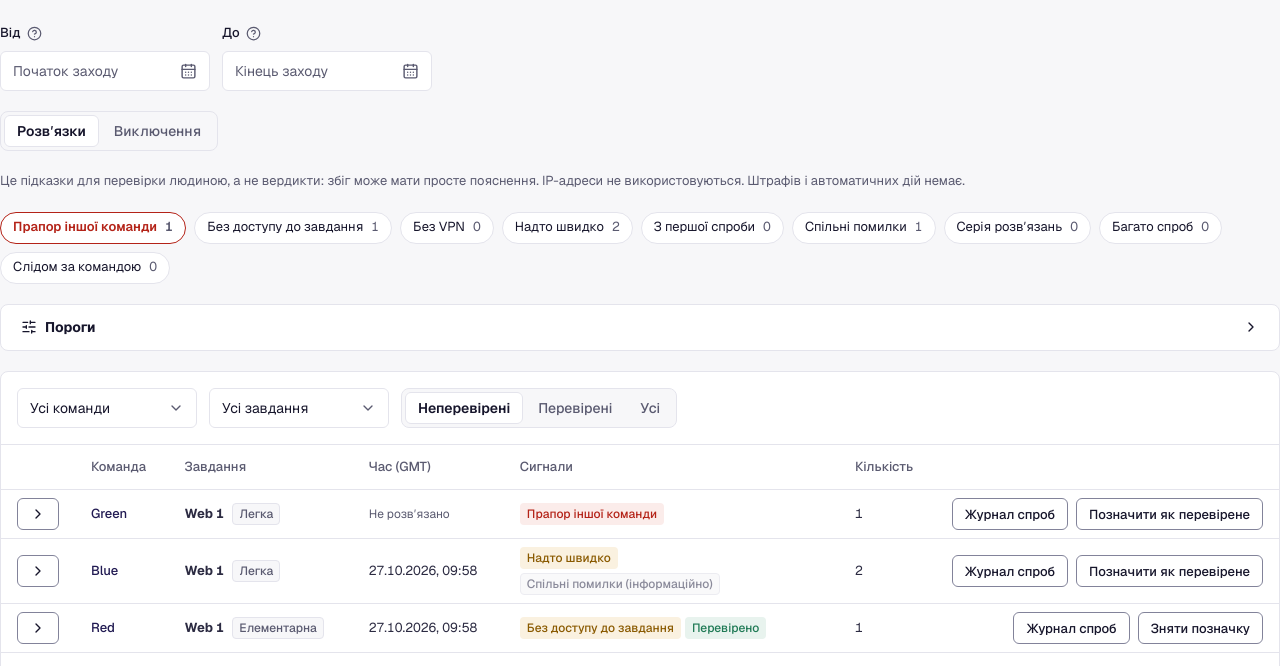
Доброчесність › dismisses another kind for the whole catalog exercise, offered to every viewer of the page
This screenshot has width=1280, height=666.
Click the button named "Докази: Red, Web 1" at (38, 628), box top-left (17, 612), bottom-right (59, 644)
(page scrolled)
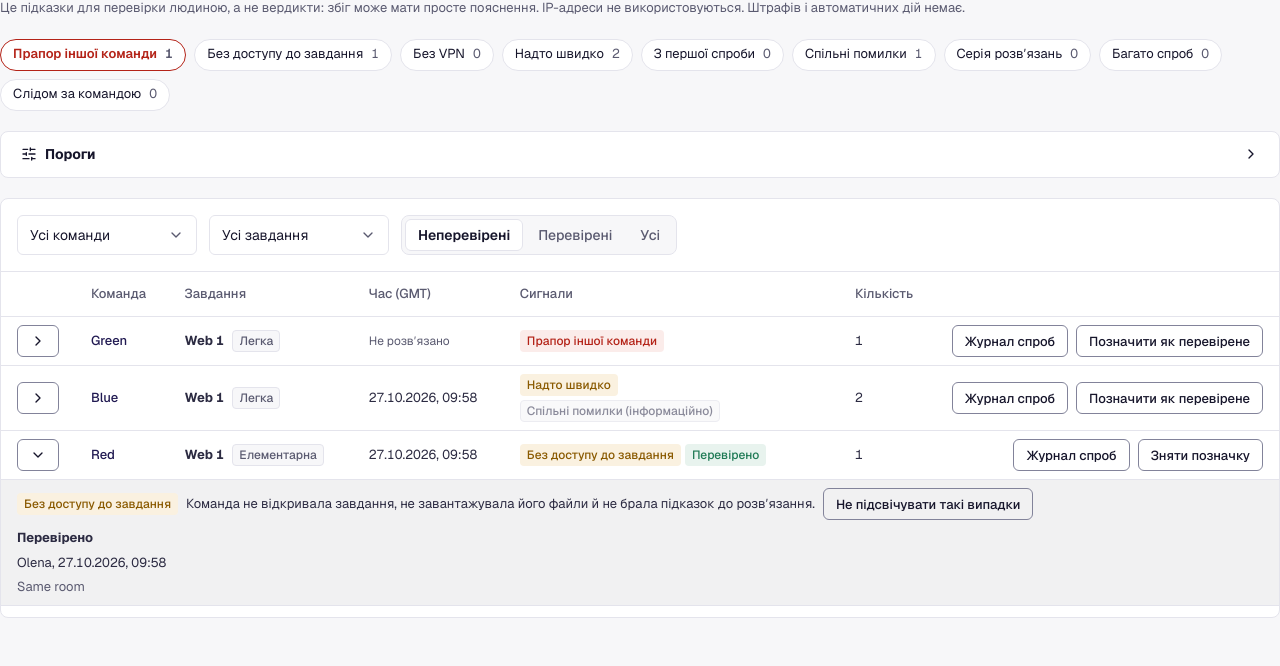
Click the button "Не підсвічувати такі випадки" at (928, 504), box top-left (823, 488), bottom-right (1034, 520)
(page scrolled)
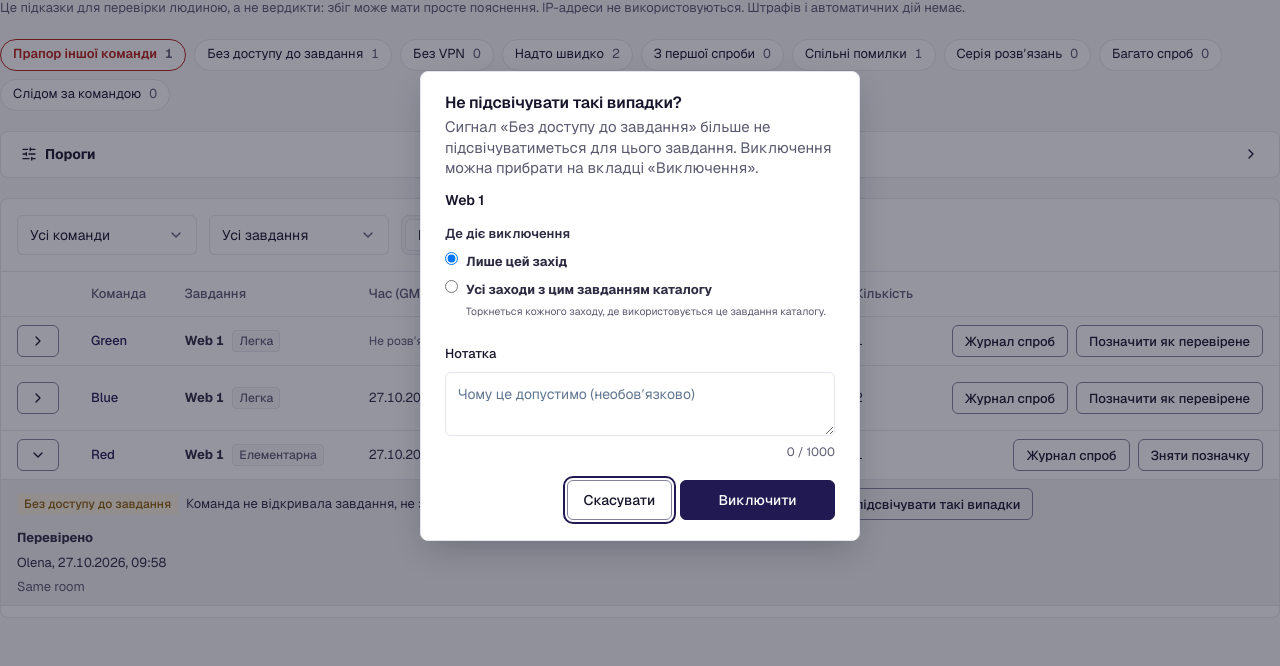
Click the radio button labelled "Усі заходи з цим завданням каталогу" at (452, 286), box top-left (445, 280), bottom-right (458, 293)
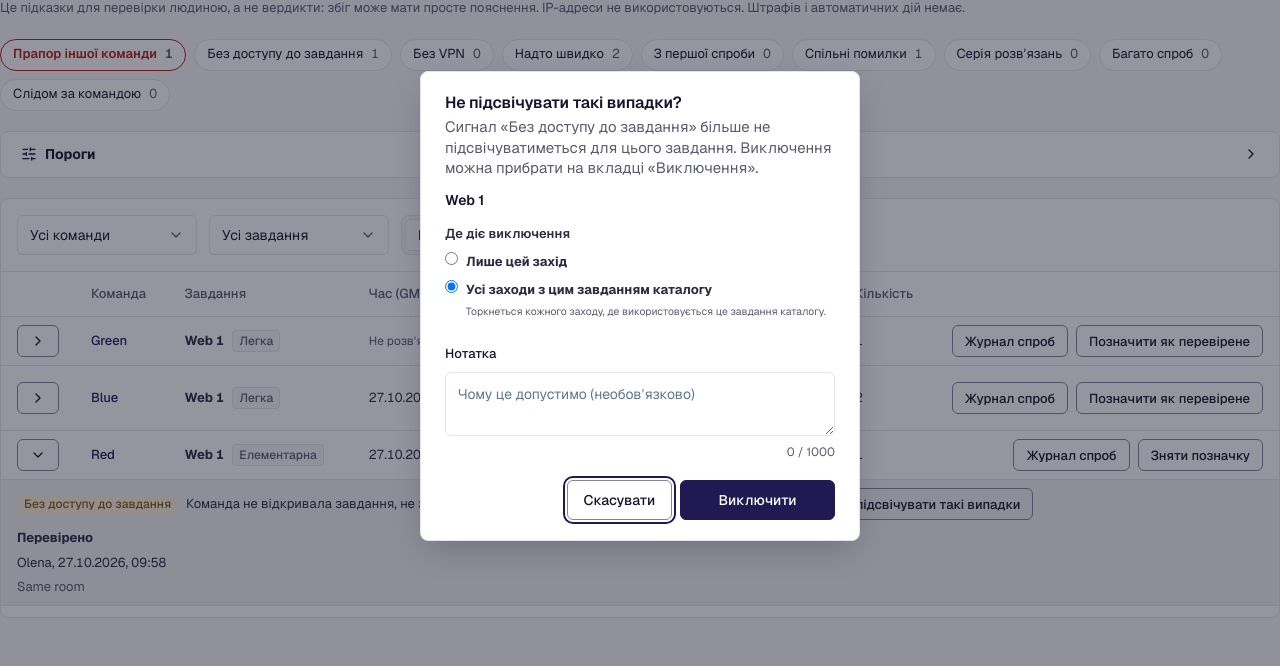
Click the button "Виключити" at (758, 500), box top-left (680, 480), bottom-right (835, 520)
(page scrolled)
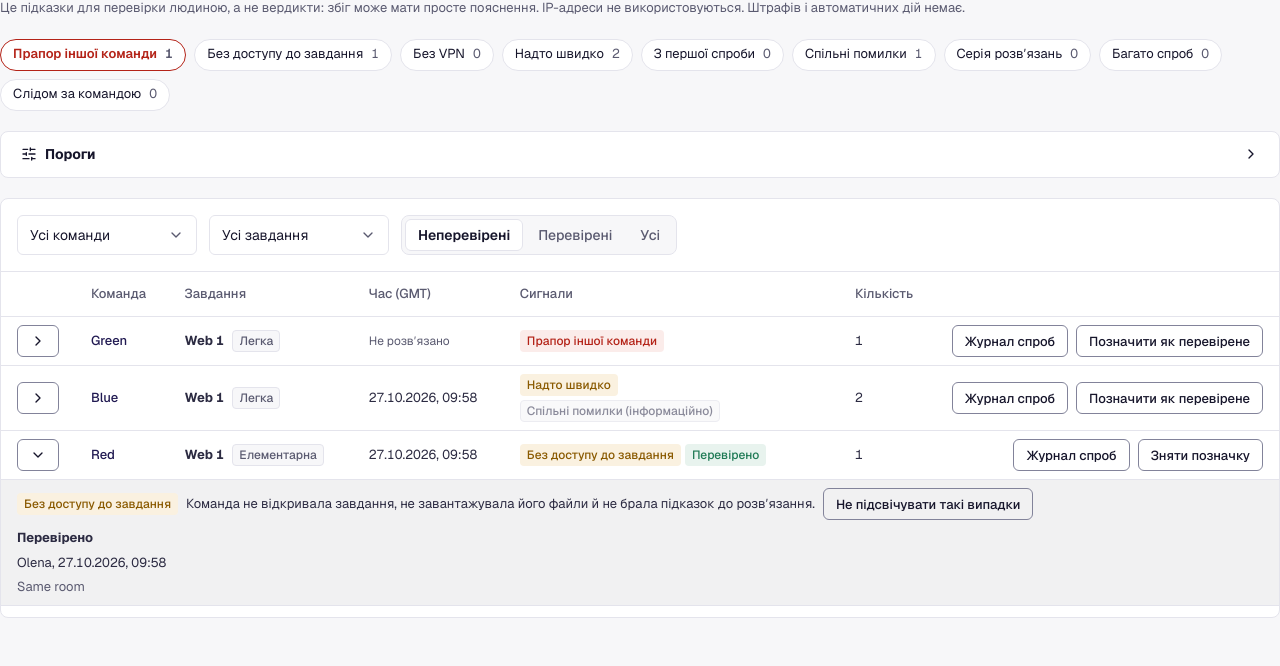
Now the dialog is gone
